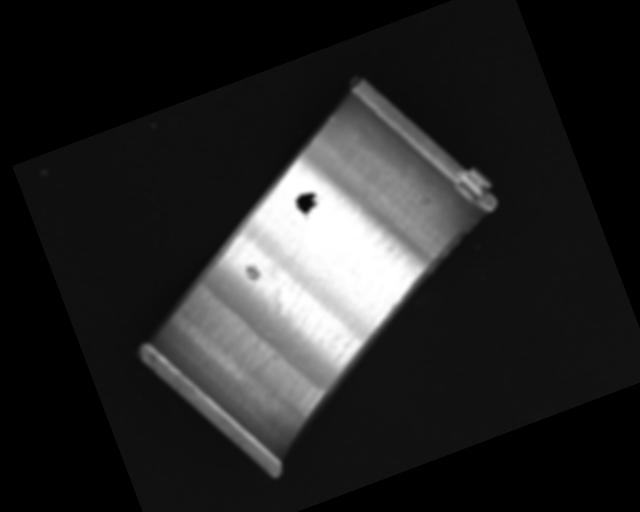blot: (292, 186, 329, 220)
bruise: (242, 260, 264, 284)
nick: (328, 112, 341, 127)
